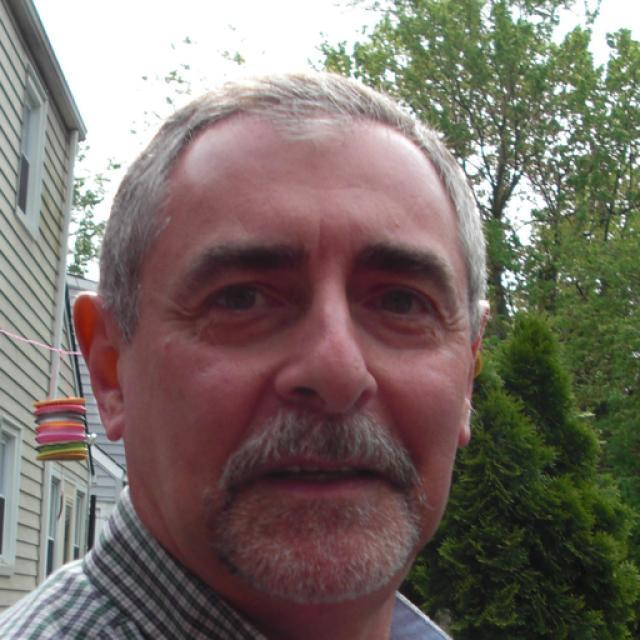neutral: (120, 108, 470, 610)
